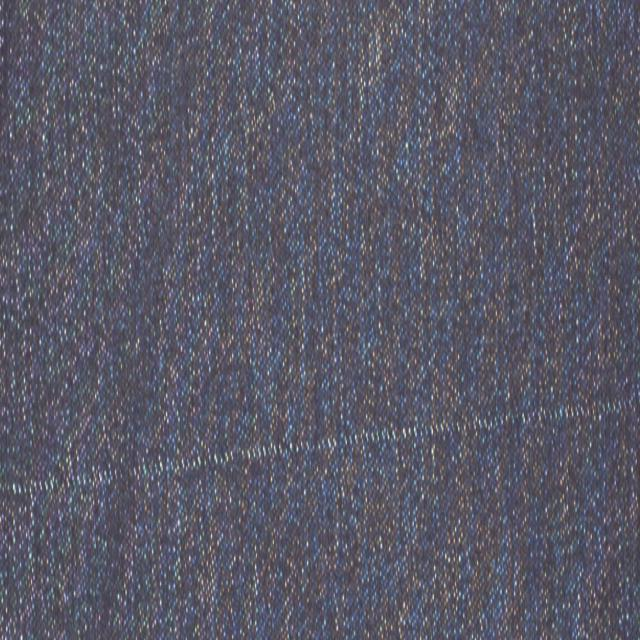Line: (0, 385, 638, 502)
